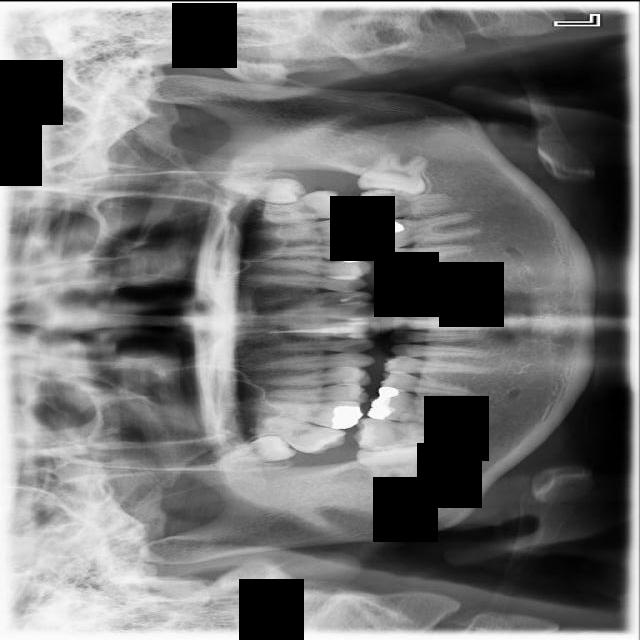3M ESPE Implant: (211, 431, 295, 474)
52: (366, 384, 421, 423), (367, 215, 417, 252), (313, 399, 364, 428), (319, 215, 364, 246), (322, 240, 370, 262), (331, 319, 381, 339), (329, 301, 379, 320), (322, 289, 372, 305)
73: (264, 321, 334, 337), (578, 44, 596, 50)
BioHorizons Implant: (252, 187, 356, 224)
BioLife Implant: (214, 177, 309, 204)
Biomet 3i Implant: (355, 147, 430, 200)
Blue Sky Bio Implant: (353, 180, 456, 223)
Caries: (250, 409, 348, 461)
Implant: (351, 415, 454, 459)
Keystone Dental Implant: (355, 440, 432, 493)
